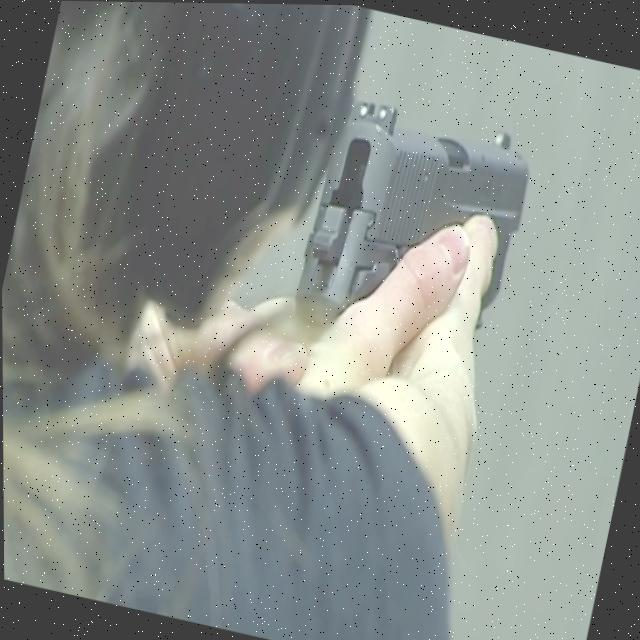pistol: (294, 85, 537, 341)
